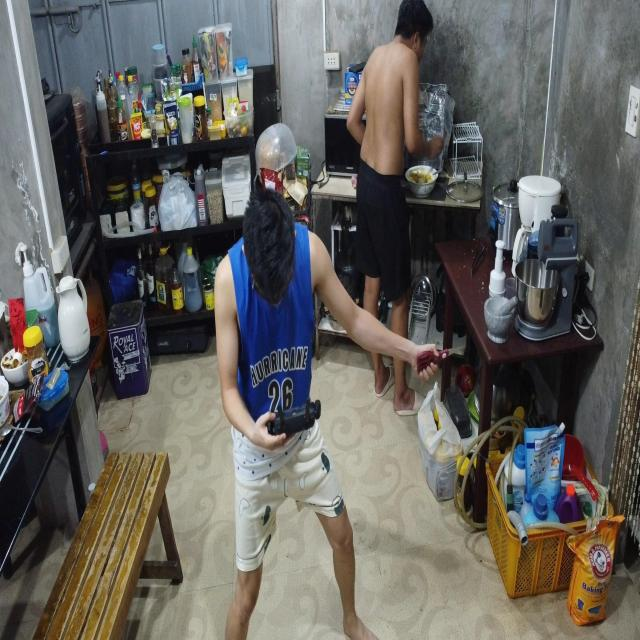scissor: (416, 343, 468, 377)
